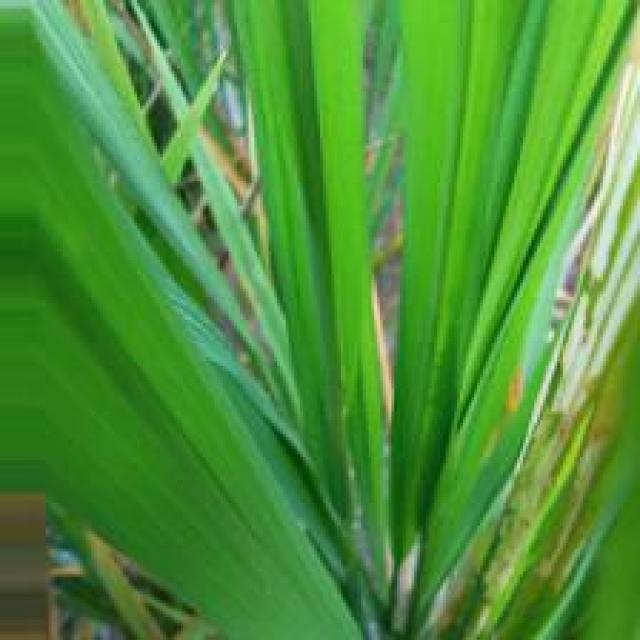Rice_Hispa: (544, 32, 640, 444)
